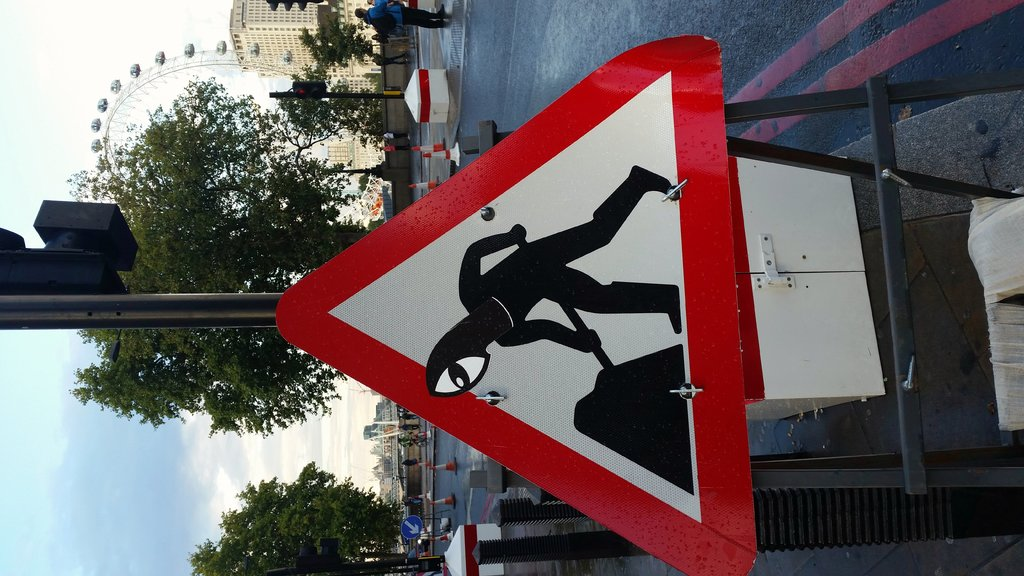roadwork: (270, 45, 760, 576)
